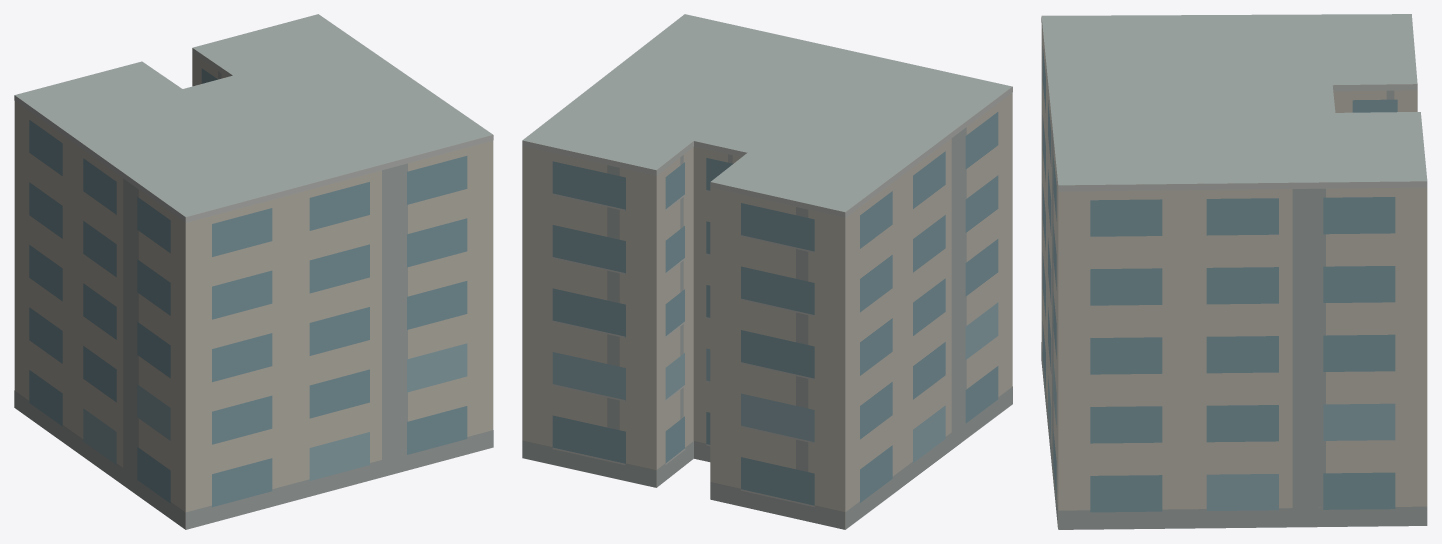
Rendered from survey-upis-32828855.glb.
3 views of the same model, side by side, from view 1: azimuth 30°, elevation 25°; view 2: azimuth 150°, elevation 25°; view 3: azimuth 270°, elevation 25° (orthographic). The views are drawn at different scales.
Visible parts, largest first — view 1: survey-upis-32828855.tmp; view 2: survey-upis-32828855.tmp; view 3: survey-upis-32828855.tmp.
Boxes of the visible parts, bbox=[...] form: survey-upis-32828855.tmp: bbox=[14, 14, 493, 529]; survey-upis-32828855.tmp: bbox=[522, 14, 1012, 529]; survey-upis-32828855.tmp: bbox=[1041, 14, 1427, 529].
Size of the model in its own units: 14.35 by 13.45 by 13.66.
